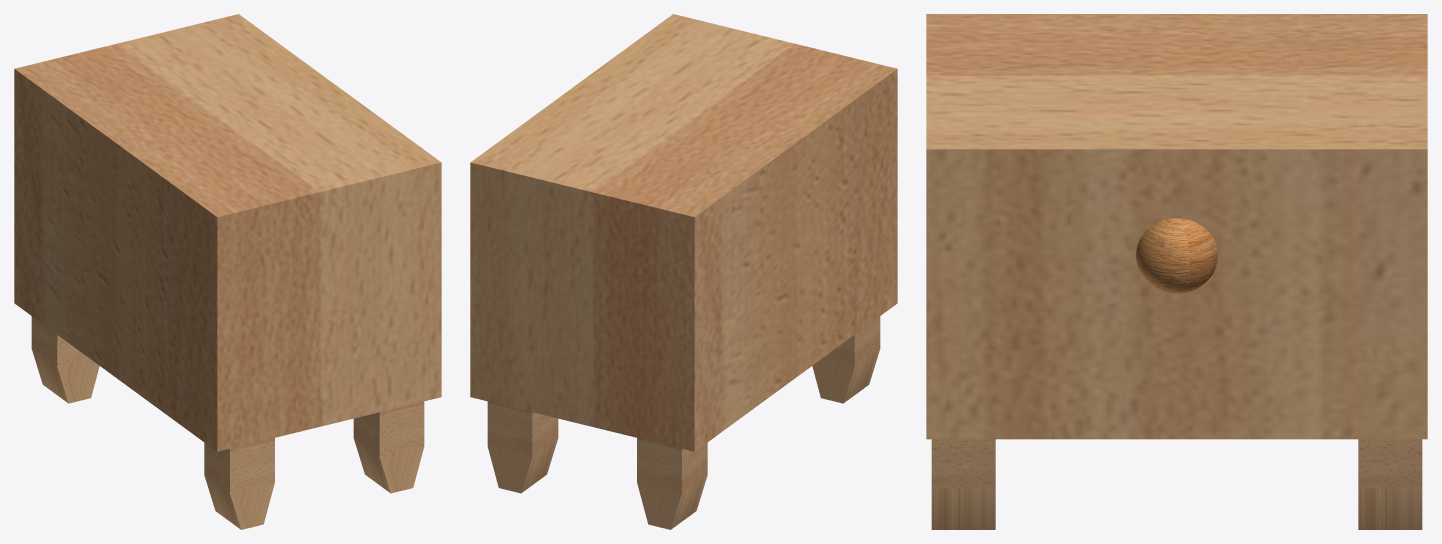
File: cajon2.obj
3 views of the same model, side by side, from view 1: azimuth 30°, elevation 25°; view 2: azimuth 150°, elevation 25°; view 3: azimuth 270°, elevation 25° (orthographic). The views are drawn at different scales.
Visible parts, largest first — view 1: polySurface23; view 2: polySurface23; view 3: polySurface23.
Part boxes in pixels (x1,y1,x2,y2): polySurface23: (14, 14, 441, 529); polySurface23: (470, 14, 897, 529); polySurface23: (926, 14, 1427, 529).
Size of the model in its own units: 165 by 205 by 235.
2 materials, 2 textured.
